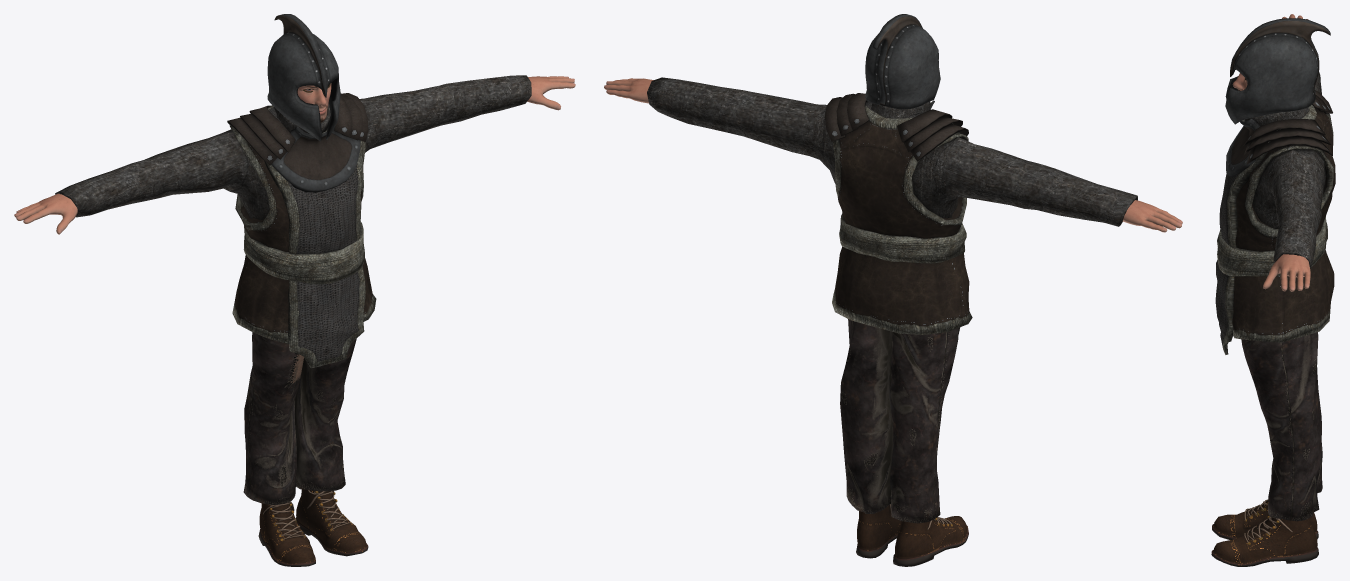
The model's file is Sword man.obj.
3 views of the same model, side by side, from view 1: azimuth 30°, elevation 25°; view 2: azimuth 150°, elevation 25°; view 3: azimuth 270°, elevation 25° (orthographic). The views are drawn at different scales.
Visible parts, largest first — view 1: Tops, Bottoms, Hats, Shoes, Body; view 2: Tops, Bottoms, Hats, Shoes, Body; view 3: Tops, Bottoms, Hats, Shoes, Body.
Boxes of the visible parts, x1,y1,x2,y2 form: Tops: (55,75,531,368); Bottoms: (243,332,356,504); Hats: (267,14,340,141); Shoes: (258,489,368,566); Body: (14,76,575,234); Tops: (647,77,1137,334); Bottoms: (840,319,960,523); Hats: (865,14,940,109); Shoes: (856,504,968,566); Body: (604,78,1182,232); Tops: (1215,72,1335,354); Bottoms: (1241,332,1322,521); Hats: (1225,18,1330,124); Shoes: (1211,499,1318,566); Body: (1232,14,1310,291).
Size of the model in its own units: 212 by 188 by 40.07.
5 materials, 5 textured.
